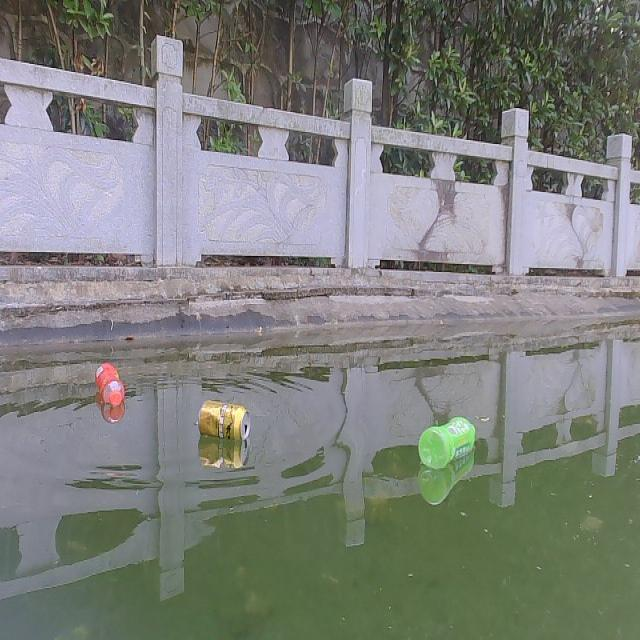bottle: (418, 415, 475, 469)
can: (196, 399, 251, 440), (95, 362, 124, 409)
